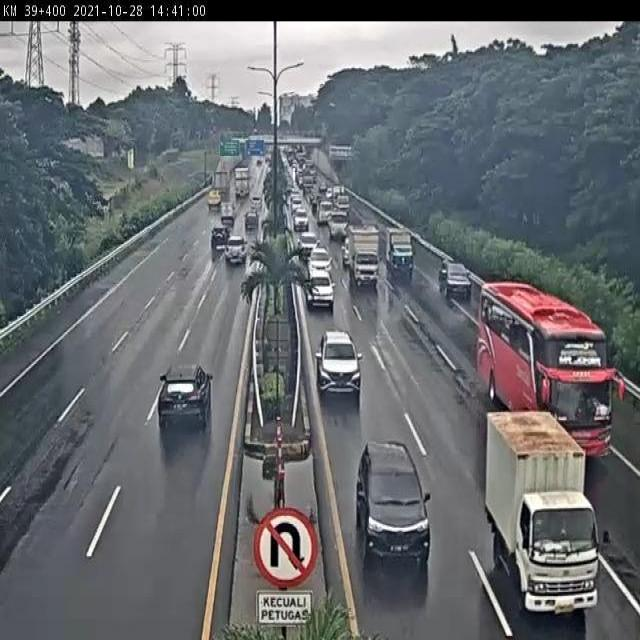big bus: (479, 280, 614, 468)
car: (354, 439, 431, 565), (156, 365, 216, 432), (316, 328, 362, 396), (438, 257, 472, 299), (304, 268, 334, 311), (223, 233, 249, 263), (209, 226, 232, 250)
mid truck: (485, 408, 600, 615), (348, 224, 379, 284), (385, 224, 415, 276)
